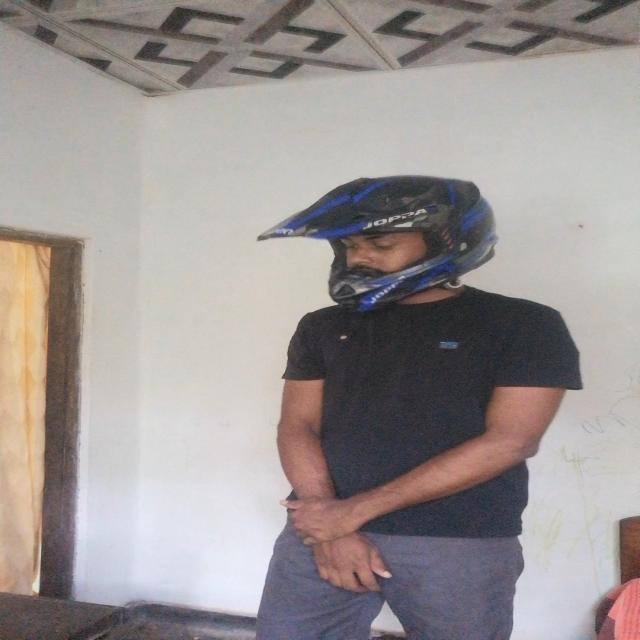Helmet_Wearer: (253, 169, 513, 321)
Person: (244, 170, 570, 640)
